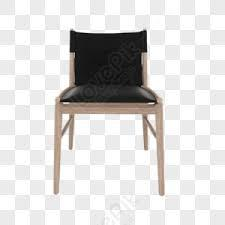chair: (36, 9, 173, 204)
